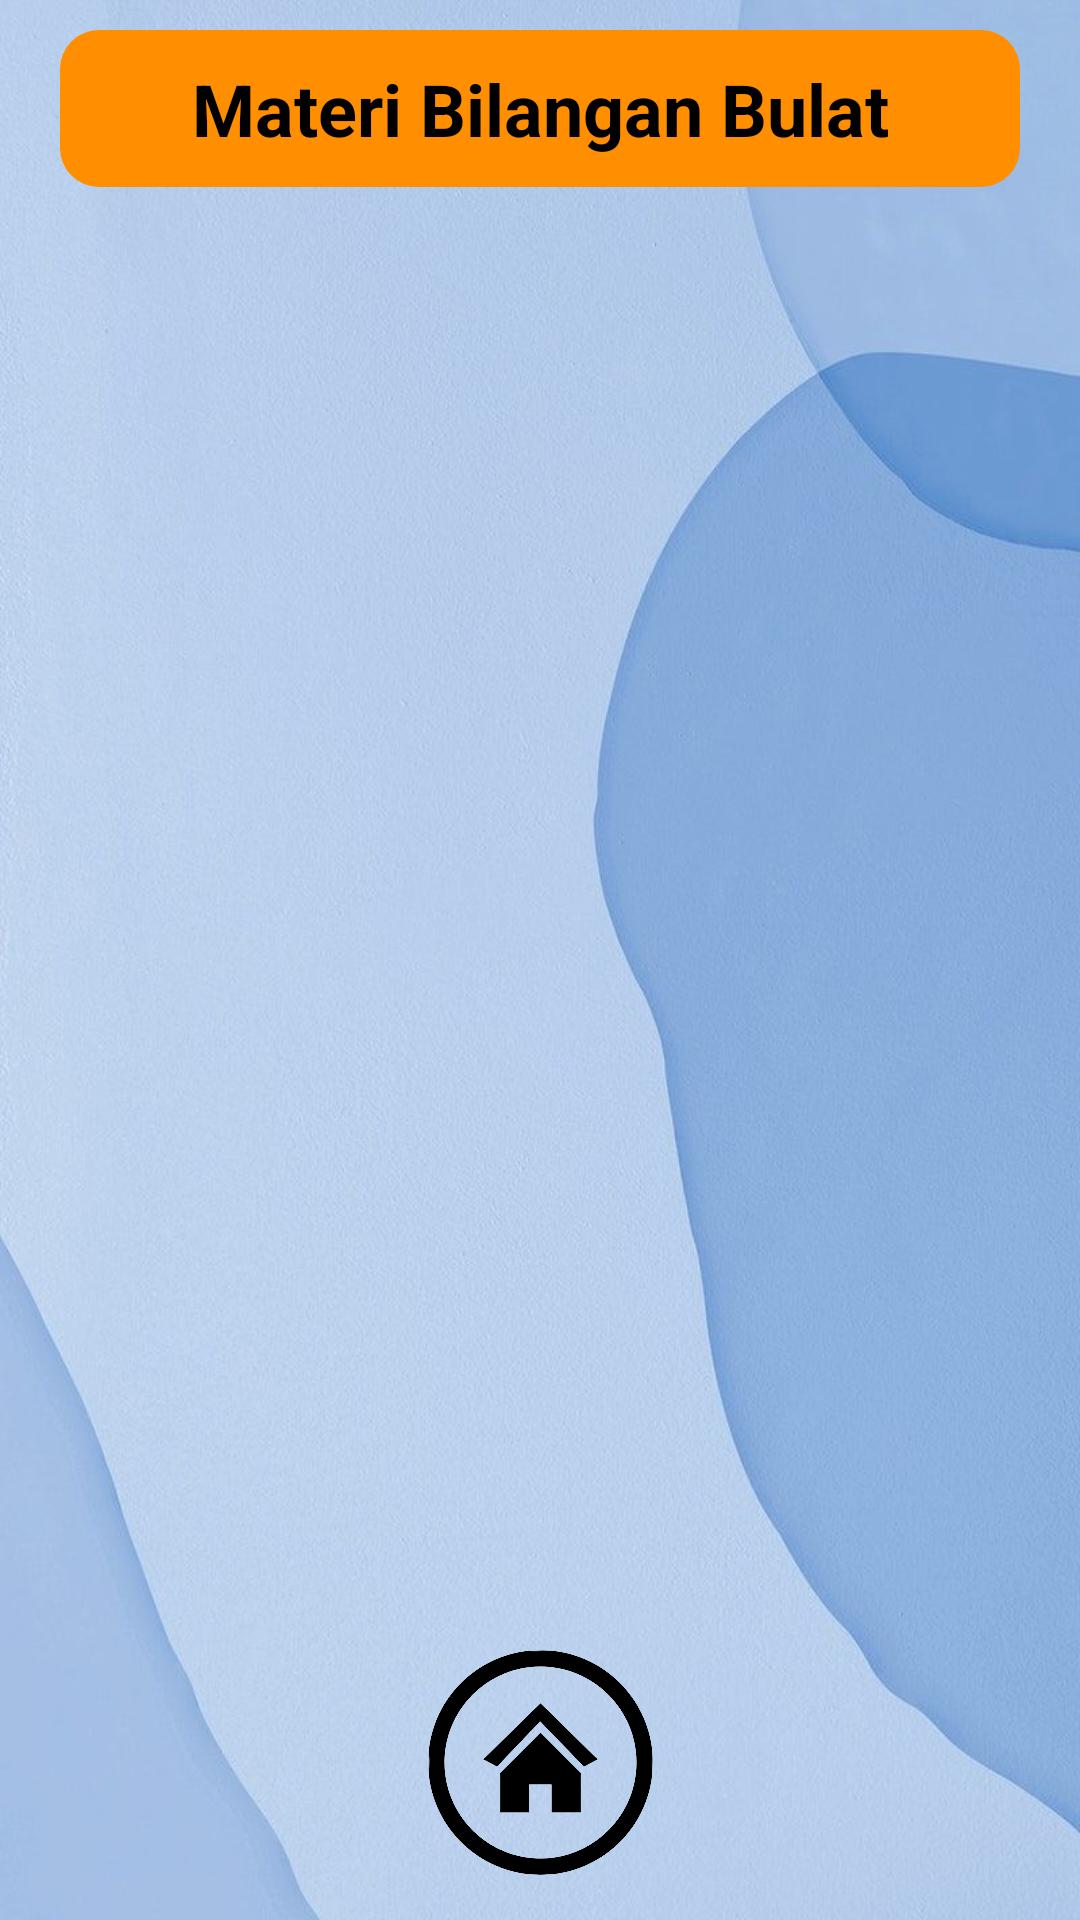

Screen size 1080x1920. Icon name, then its center in pixels as (x=x, y=y):
home: (x=540, y=1762)
